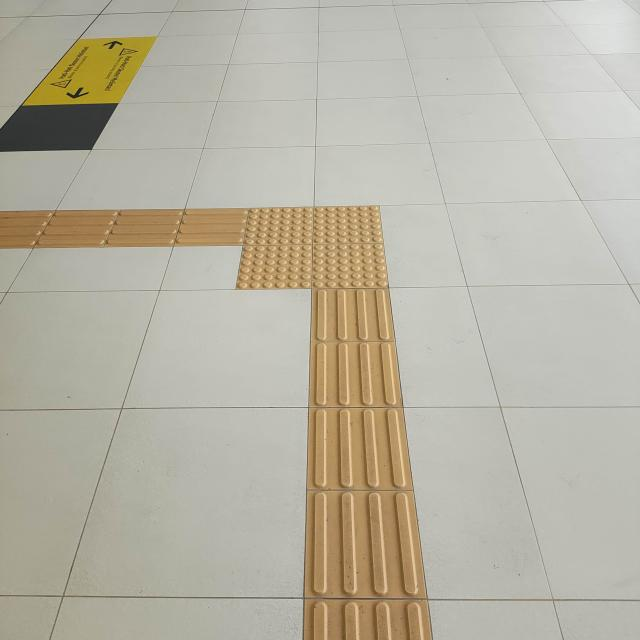kiri: (116, 170, 408, 337)
